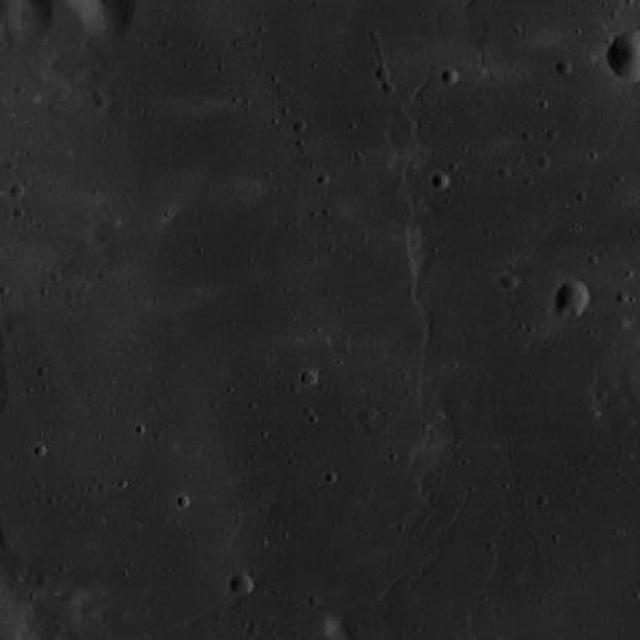crater: (552, 279, 590, 316), (230, 571, 252, 594), (431, 170, 451, 190), (440, 66, 458, 85), (8, 182, 26, 200), (554, 59, 572, 76), (299, 369, 316, 386), (79, 600, 96, 616), (374, 66, 389, 82), (501, 274, 516, 290)
